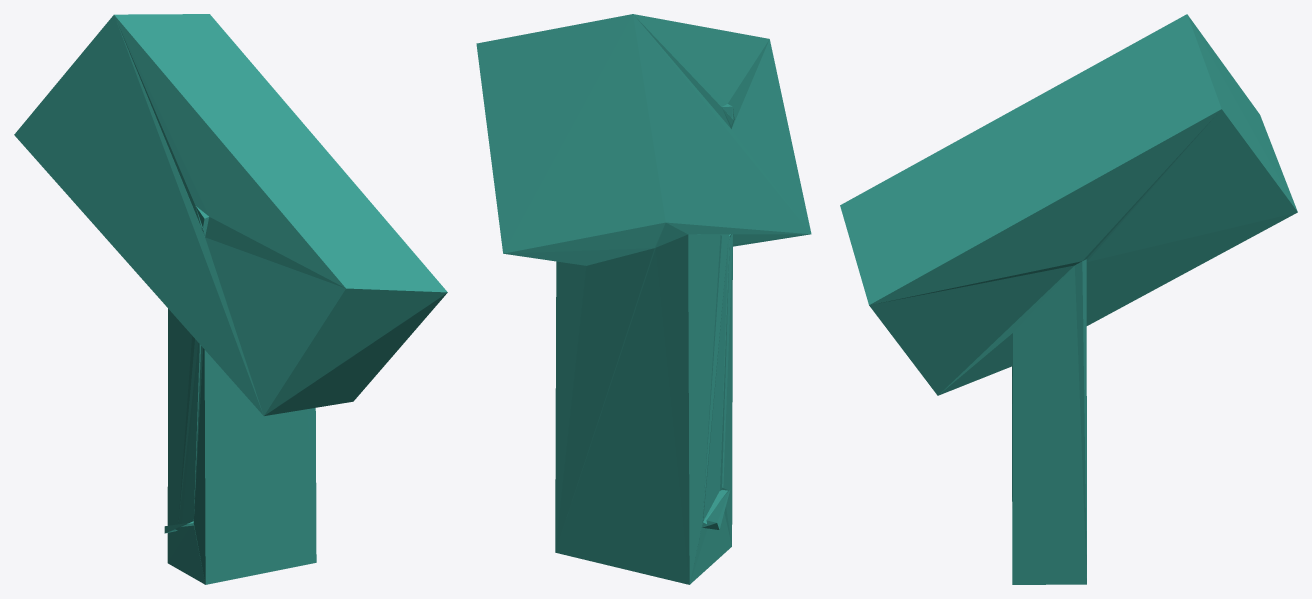
3 views of the same model, side by side, from view 1: azimuth 30°, elevation 25°; view 2: azimuth 150°, elevation 25°; view 3: azimuth 270°, elevation 25° (orthographic). The views are drawn at different scales.
Parts seen in each view (by area): view 1: 466_Cube.1888; view 2: 466_Cube.1888; view 3: 466_Cube.1888.
Boxes of the visible parts, x1,y1,x2,y2 form: 466_Cube.1888: (14, 14, 447, 584); 466_Cube.1888: (476, 14, 811, 584); 466_Cube.1888: (840, 14, 1297, 584).
Bounding box in the file's own units: 8.09 × 16.58 × 13.38.
